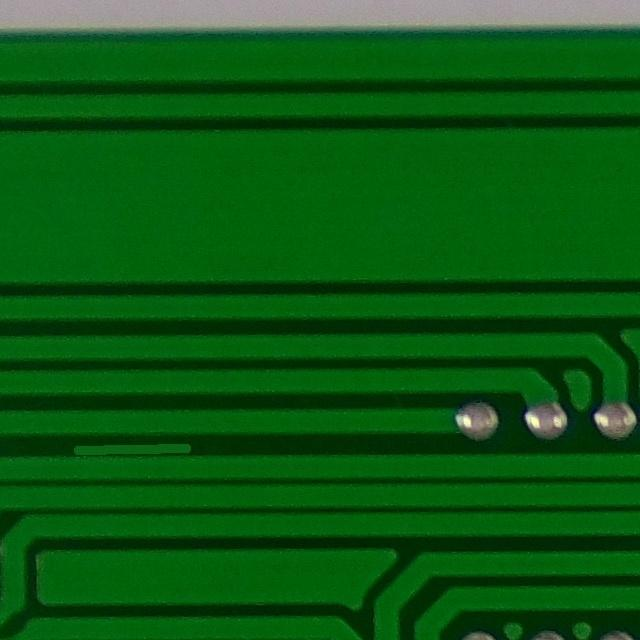spurious_copper: (53, 425, 211, 470)
